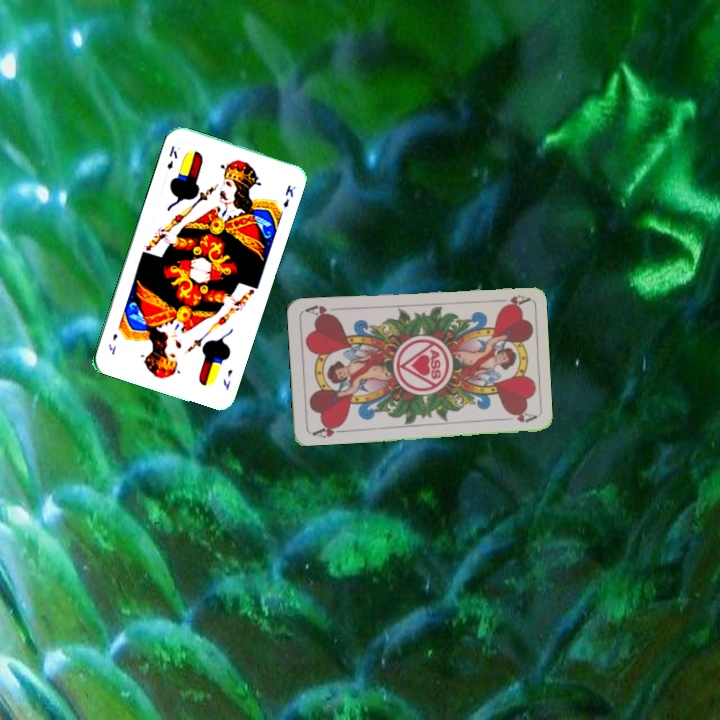EK: (163, 142, 180, 172), (219, 365, 235, 393)
HA: (308, 420, 348, 440), (490, 291, 530, 310)
